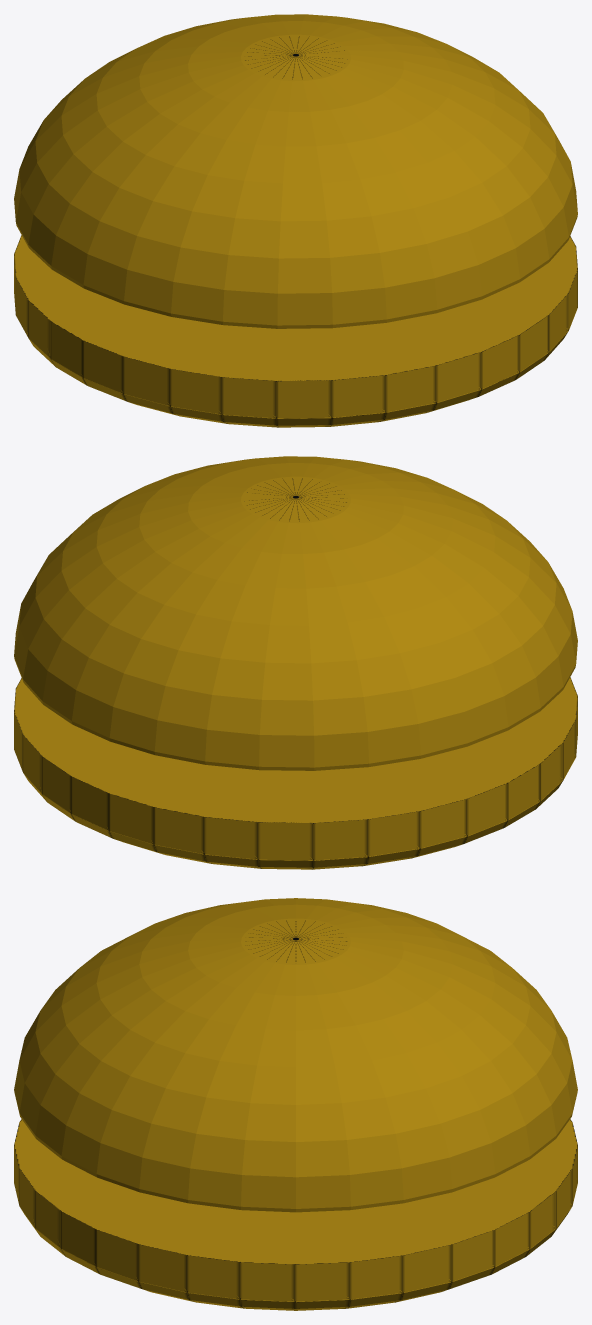
File: pao.glb
3 renders of one model, top to bottom at view 1: azimuth 30°, elevation 25°; view 2: azimuth 150°, elevation 25°; view 3: azimuth 270°, elevation 25°, orthographic.
Visible parts, largest first — view 1: top, bottom cylinder, bottom sphere; view 2: top, bottom cylinder, bottom sphere; view 3: top, bottom cylinder, bottom sphere.
Part boxes in pixels (box(x1,y1,x2,y2)): top: box(14, 14, 577, 328); bottom cylinder: box(14, 235, 577, 418); bottom sphere: box(16, 310, 576, 427); top: box(14, 456, 577, 770); bottom cylinder: box(14, 677, 577, 860); bottom sphere: box(15, 752, 575, 869); top: box(14, 898, 577, 1212); bottom cylinder: box(14, 1119, 577, 1301); bottom sphere: box(14, 1186, 577, 1310).
Size of the model in its own units: 2.2 by 1.17 by 2.2.
Materials: 3 (3 with a texture image).
